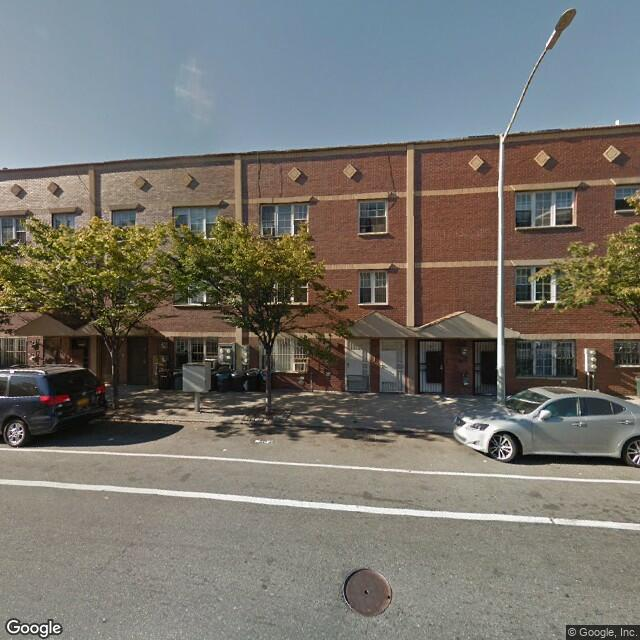litter: (252, 439, 275, 452)
